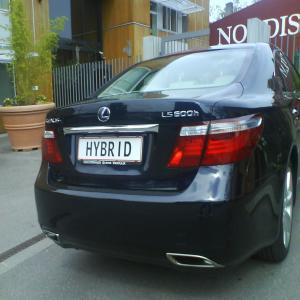Vehicle-registration-plate: (75, 132, 146, 174)
